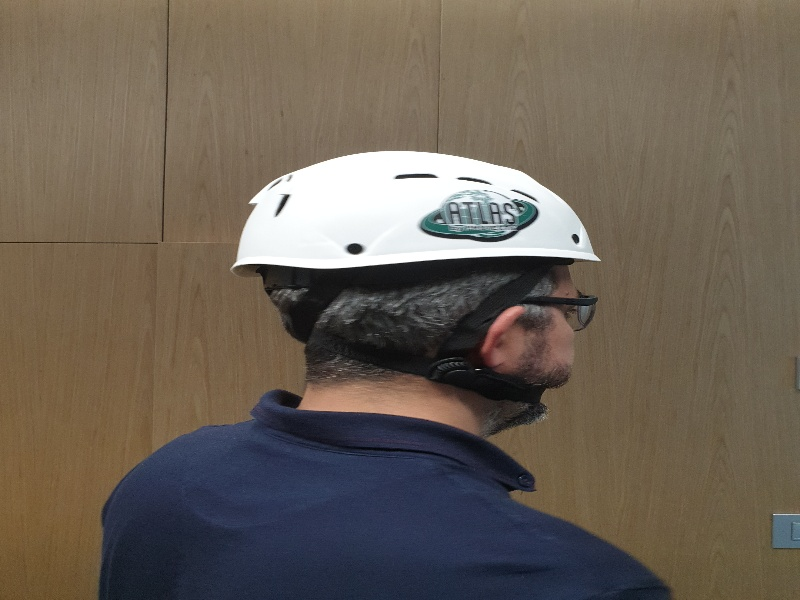Baret: (241, 149, 604, 273)
Gozluk: (520, 282, 602, 325)
